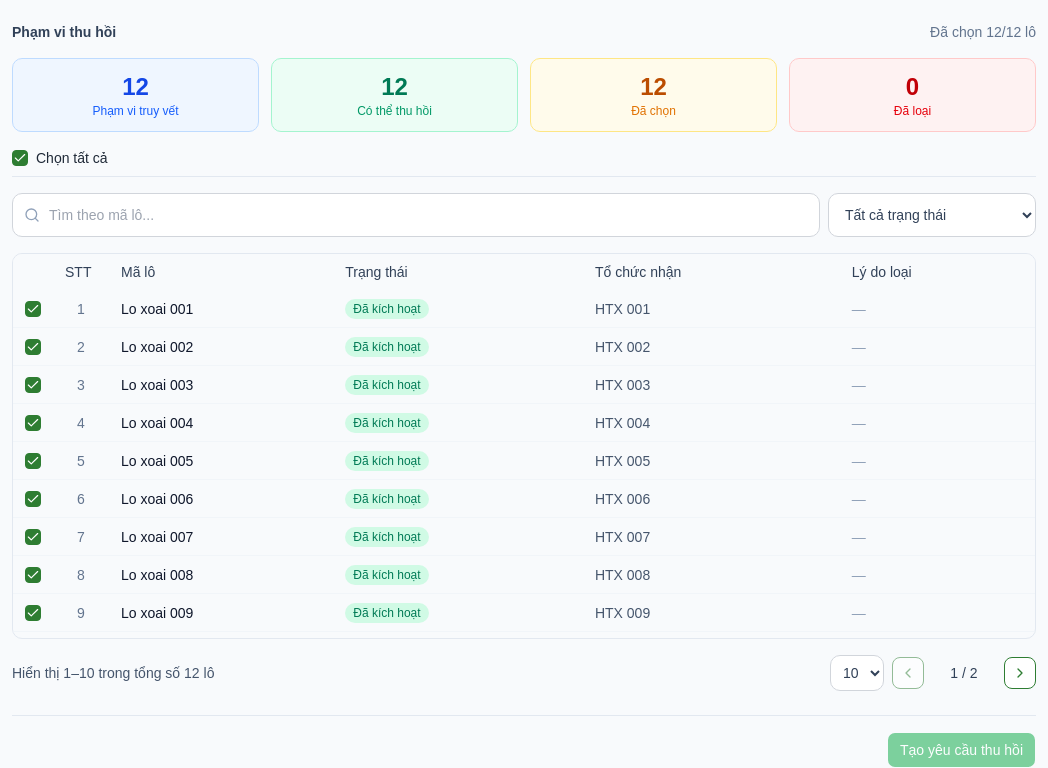
Scenario: BulkRecallRequestForm - bang Pham vi thu hoi › tim kiem khong phan biet hoa thuong, trim khoang trang va reset ve trang 1
(page scrolled)
Click the button named "Trang sau".
click(1020, 673)  # box [1004, 657, 1036, 689]
(page scrolled)
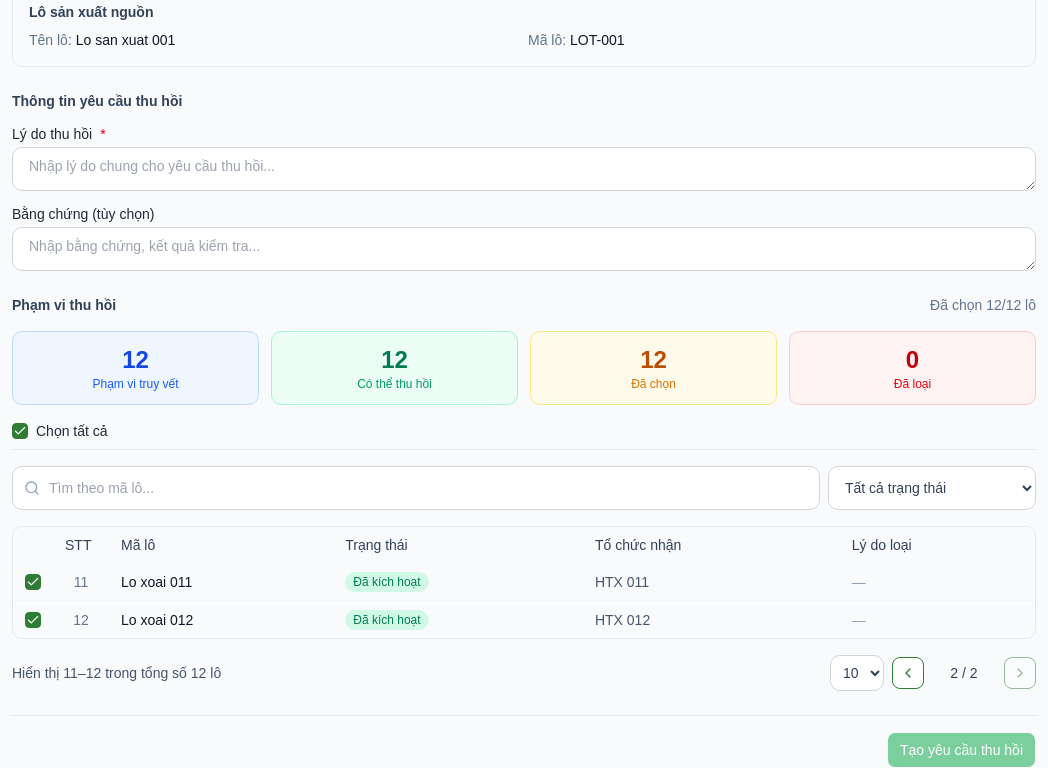
Now the text "Hiển thị 11–12 trong tổng số 12 lô" is shown, box [12, 663, 221, 683]
Type "  LO XOAI 001  " into the field labelled "Tìm theo mã lô".
click(416, 488); type("  LO XOAI 001  ")  # box [12, 466, 820, 510]
(page scrolled)
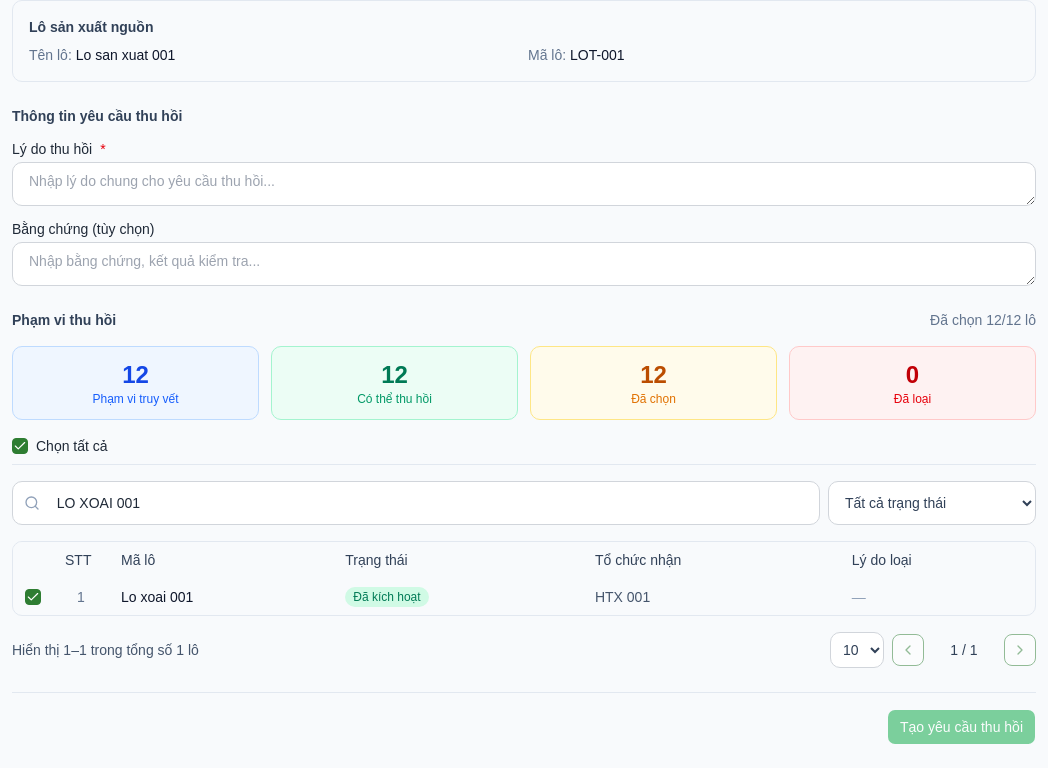
Now the text "Hiển thị 1–1 trong tổng số 1 lô" is shown, box [12, 640, 199, 660]
Now the text "Lo xoai 001" is shown, box [109, 578, 333, 615]
